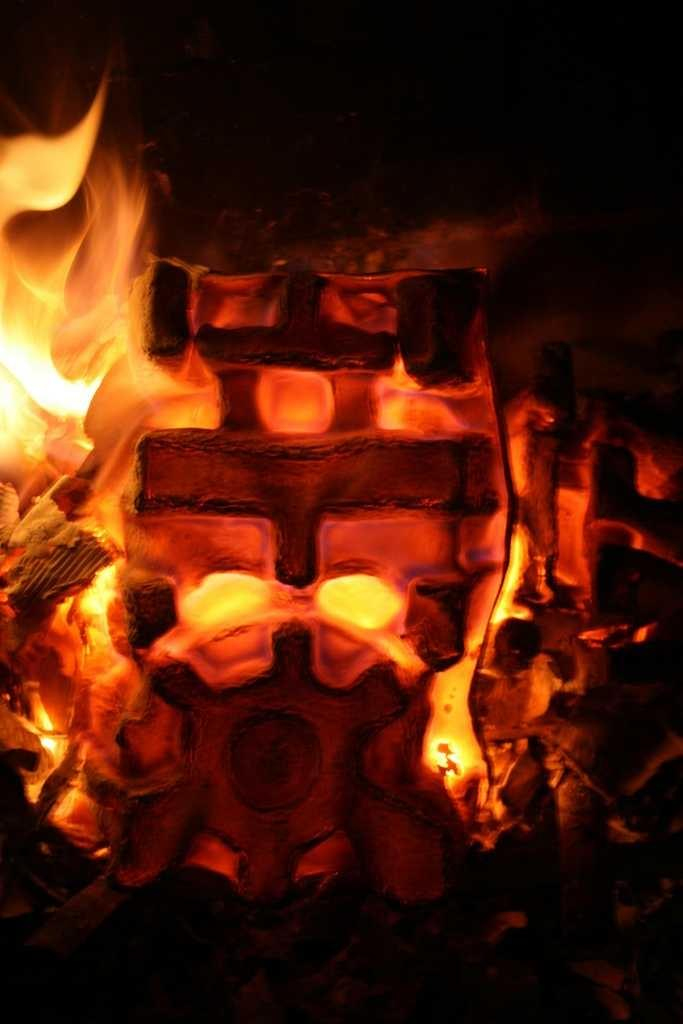fire: (7, 168, 188, 425)
